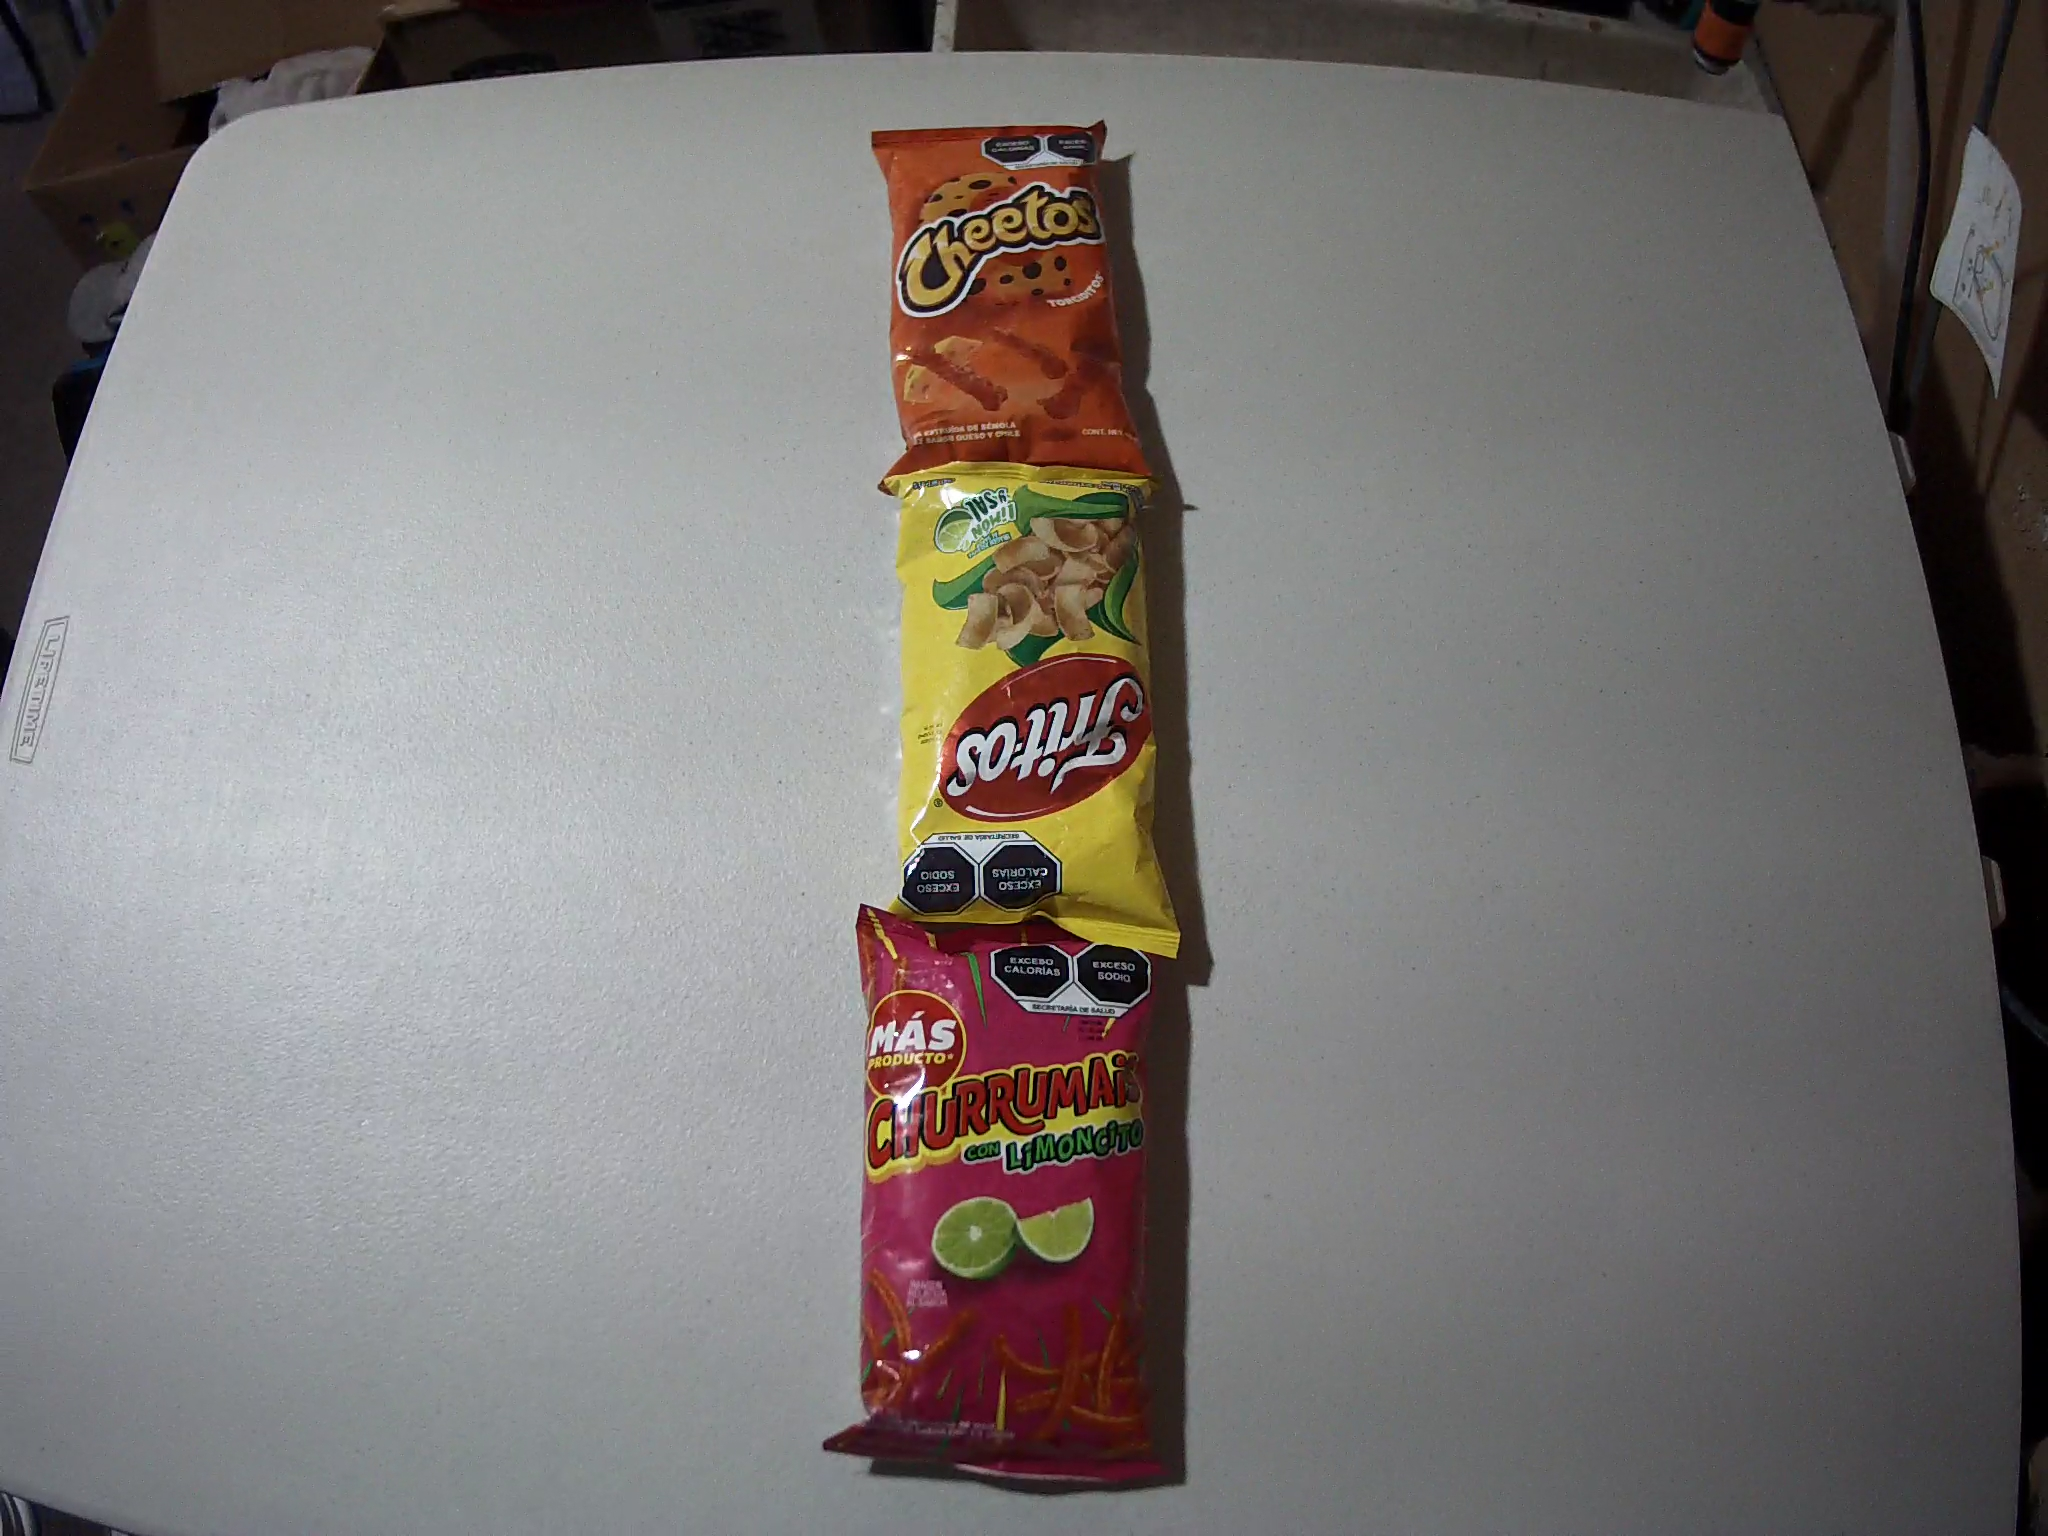CheetosTorciditos_55_F: (869, 123, 1151, 470)
Churrumais_70_F: (826, 907, 1172, 1483)
FritosSalLimon_65_F: (882, 466, 1182, 960)
